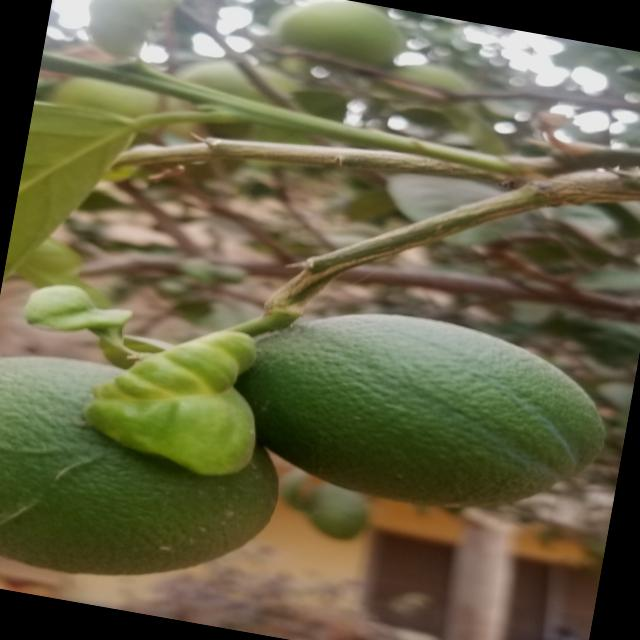Unripe: (213, 282, 614, 544), (0, 341, 287, 607)
